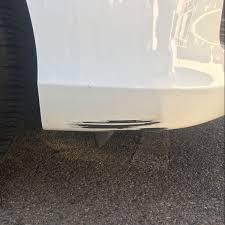front-bumper-dent: (0, 2, 224, 134)
